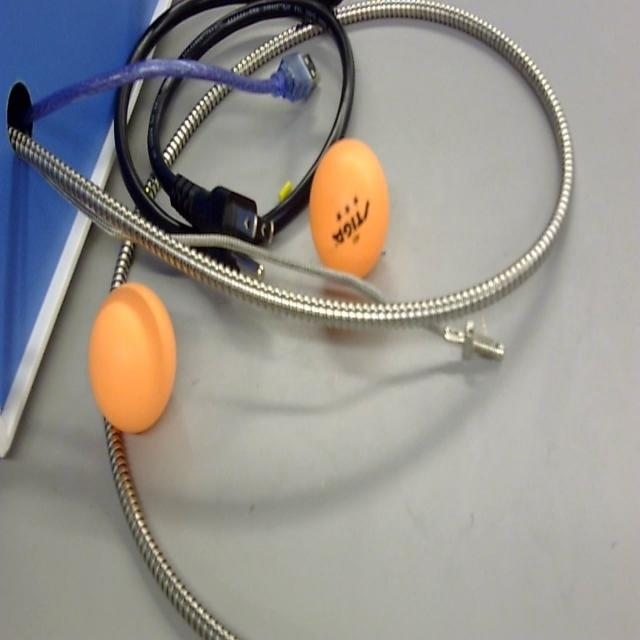ball: (87, 281, 178, 438), (308, 134, 392, 286)
